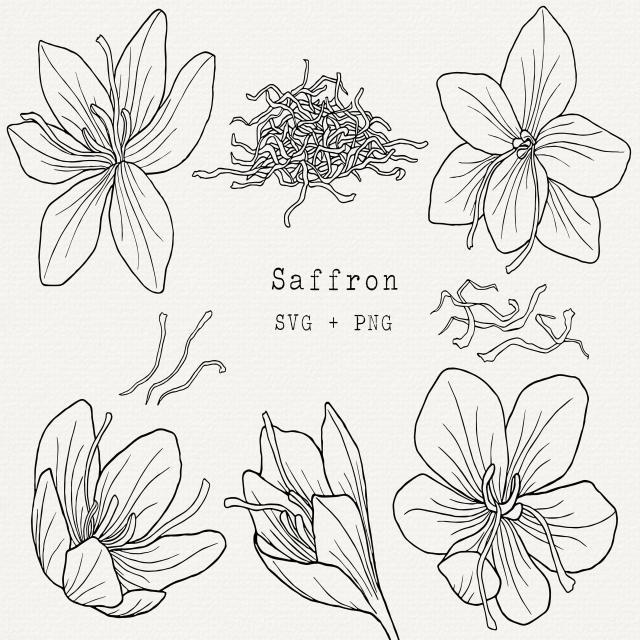Flower: (390, 366, 623, 626), (8, 7, 215, 290), (428, 8, 632, 267), (24, 394, 226, 624), (225, 397, 373, 620)
